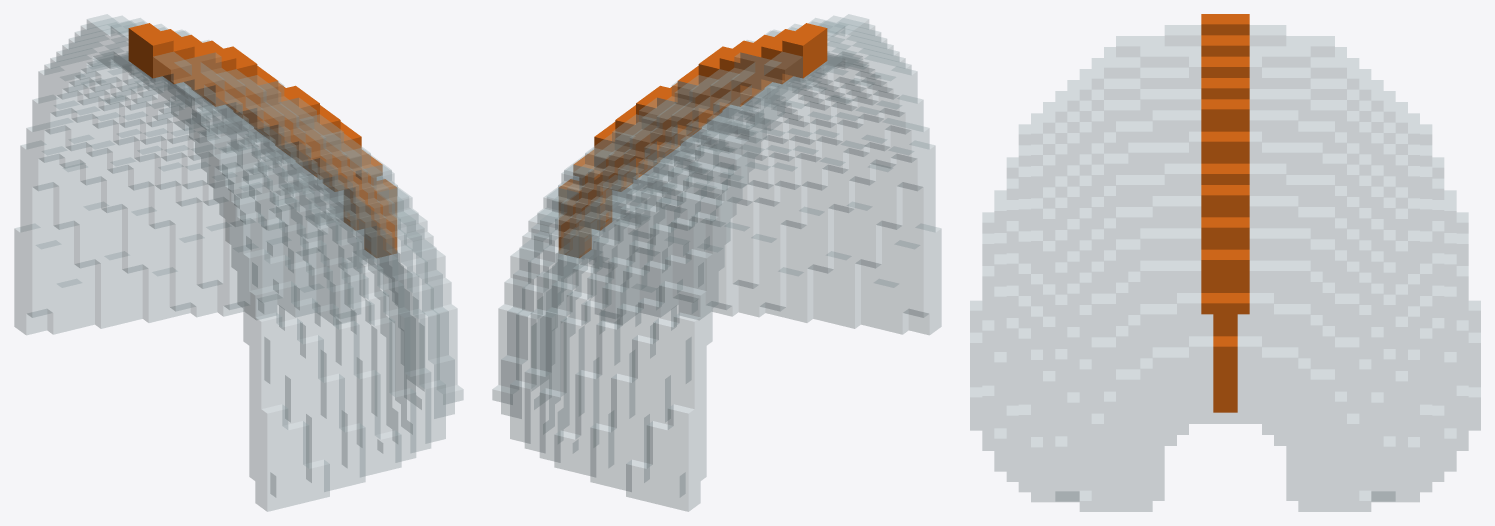
Rendered from news_helicopter_windscreen.glb.
3 renders of one model, left to right at view 1: azimuth 30°, elevation 25°; view 2: azimuth 150°, elevation 25°; view 3: azimuth 270°, elevation 25°, orthographic.
Visible parts, largest first — view 1: body:compound; view 2: body:compound; view 3: body:compound.
Part boxes in pixels (bbox=[...]): body:compound: bbox=[14, 14, 463, 511]; body:compound: bbox=[492, 14, 941, 511]; body:compound: bbox=[970, 14, 1480, 511].
Size of the model in its own units: 0.75 by 1.09 by 1.31.
